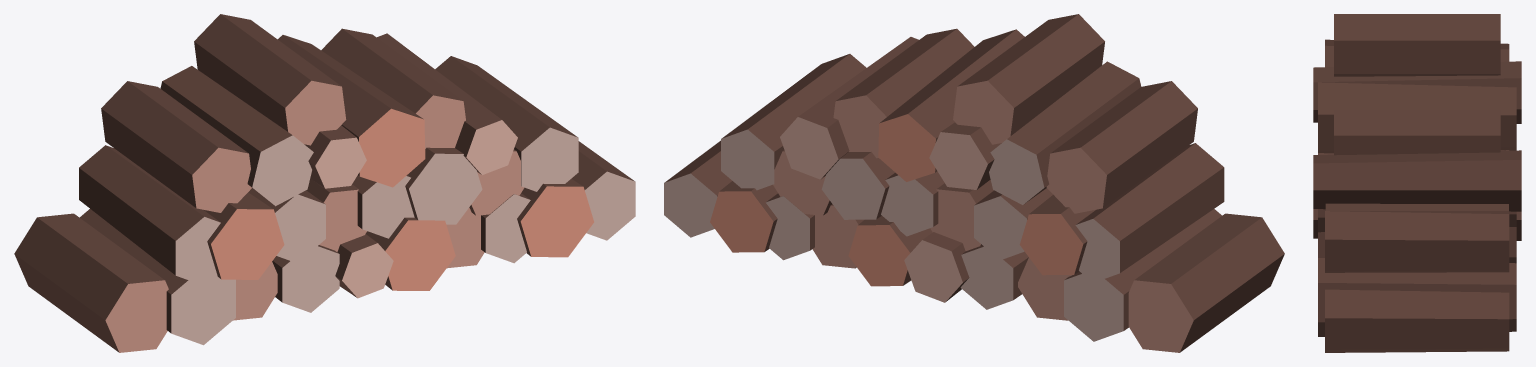
File: prop_066.fbx
3 renders of one model, left to right at view 1: azimuth 30°, elevation 25°; view 2: azimuth 150°, elevation 25°; view 3: azimuth 270°, elevation 25°, orthographic. The views are drawn at different scales.
Visible parts, largest first — view 1: prop.066; view 2: prop.066; view 3: prop.066.
Boxes of the visible parts, <box> form: prop.066: <box>14,14,635,352</box>; prop.066: <box>664,14,1284,352</box>; prop.066: <box>1313,14,1521,352</box>.
Size of the model in its own units: 283 by 120 by 106.
Materials: 1 (1 with a texture image).
